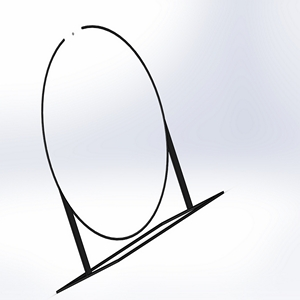circle: (39, 23, 225, 293)
